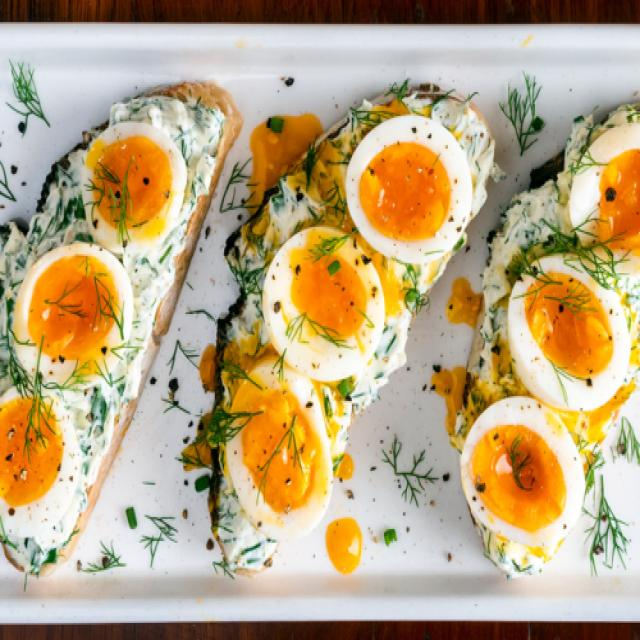eggs: (245, 112, 411, 548), (488, 152, 631, 559), (24, 104, 146, 524)
